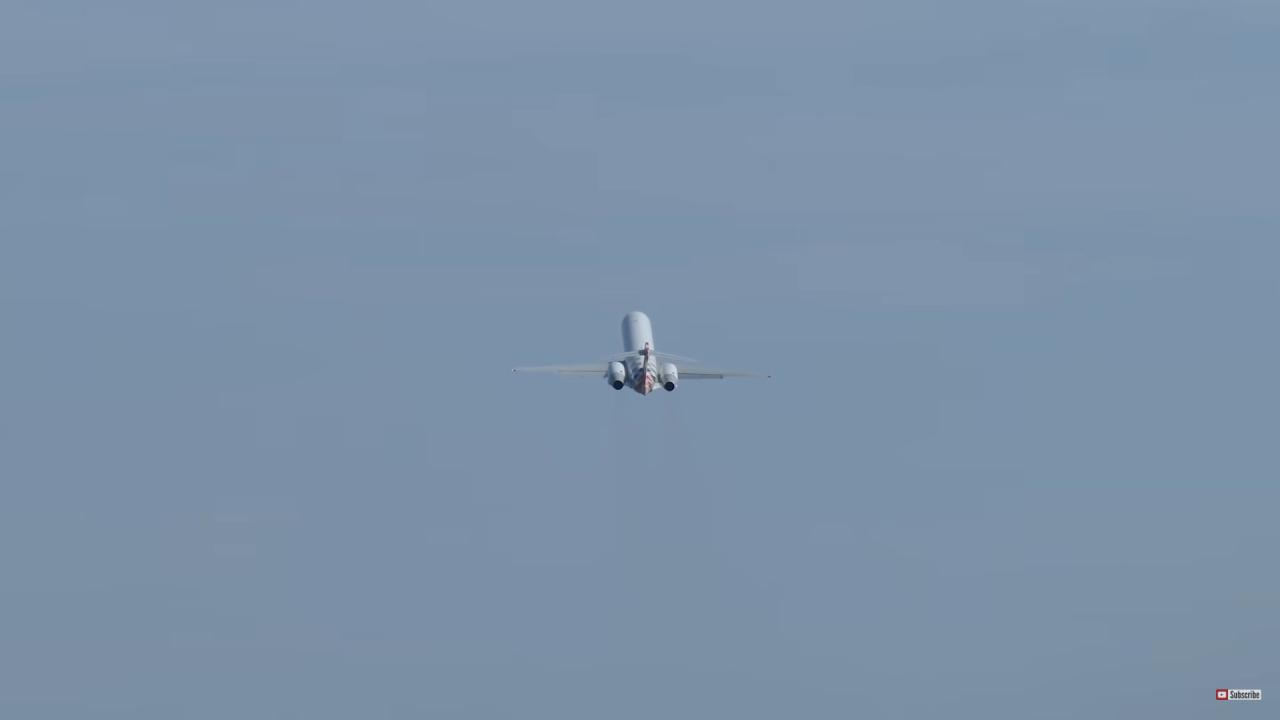Airplane: (499, 296, 775, 417)
